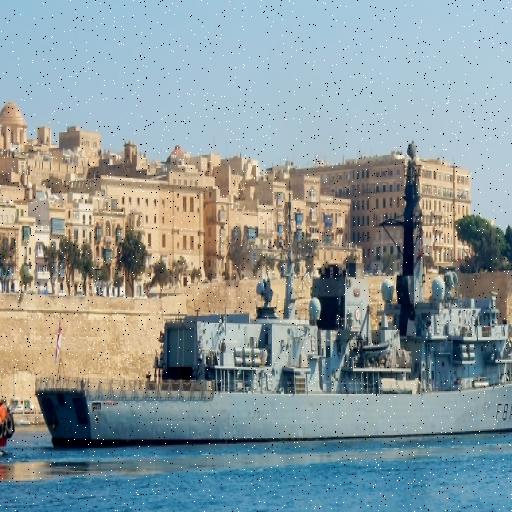Fragata: (33, 139, 512, 456)
